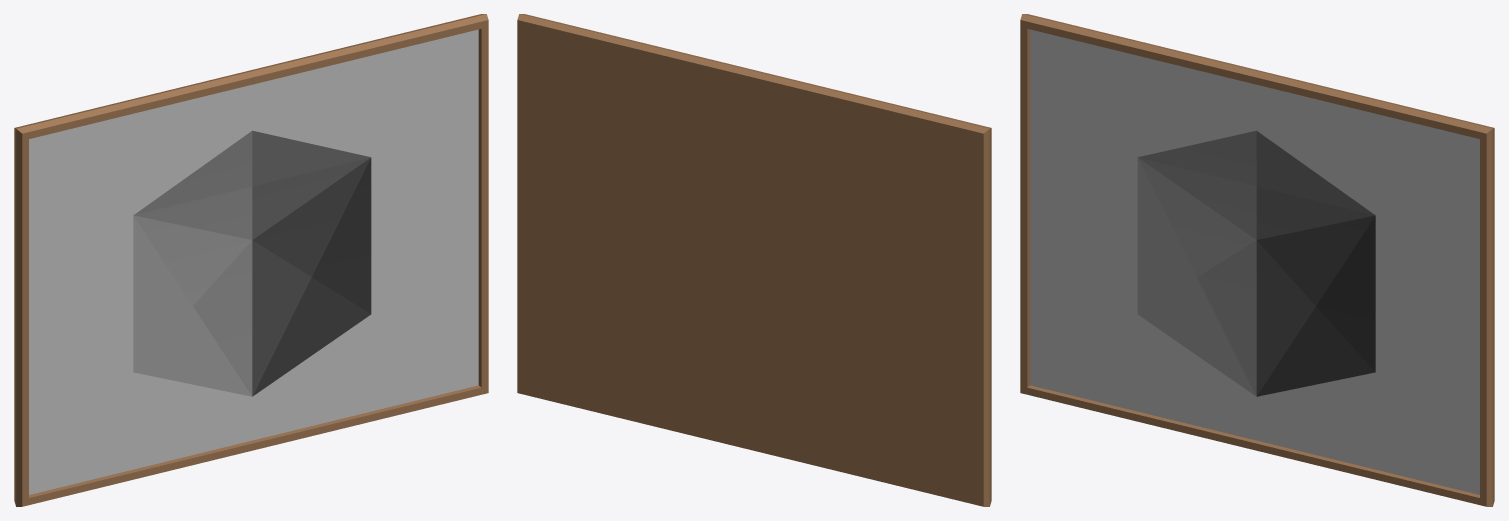
The model's file is Int_WallPainting02_1.fbx.
3 renders of one model, left to right at view 1: azimuth 30°, elevation 25°; view 2: azimuth 150°, elevation 25°; view 3: azimuth 330°, elevation 25°, orthographic.
Parts seen in each view (by area): view 1: Int_WallPainting02_1; view 2: Int_WallPainting02_1; view 3: Int_WallPainting02_1.
Boxes of the visible parts, x1,y1,x2,y2 form: Int_WallPainting02_1: (14,14,488,506); Int_WallPainting02_1: (517,14,991,506); Int_WallPainting02_1: (1020,14,1494,506).
Size of what is drawn, in the model's own units: 172 by 5 by 132.
